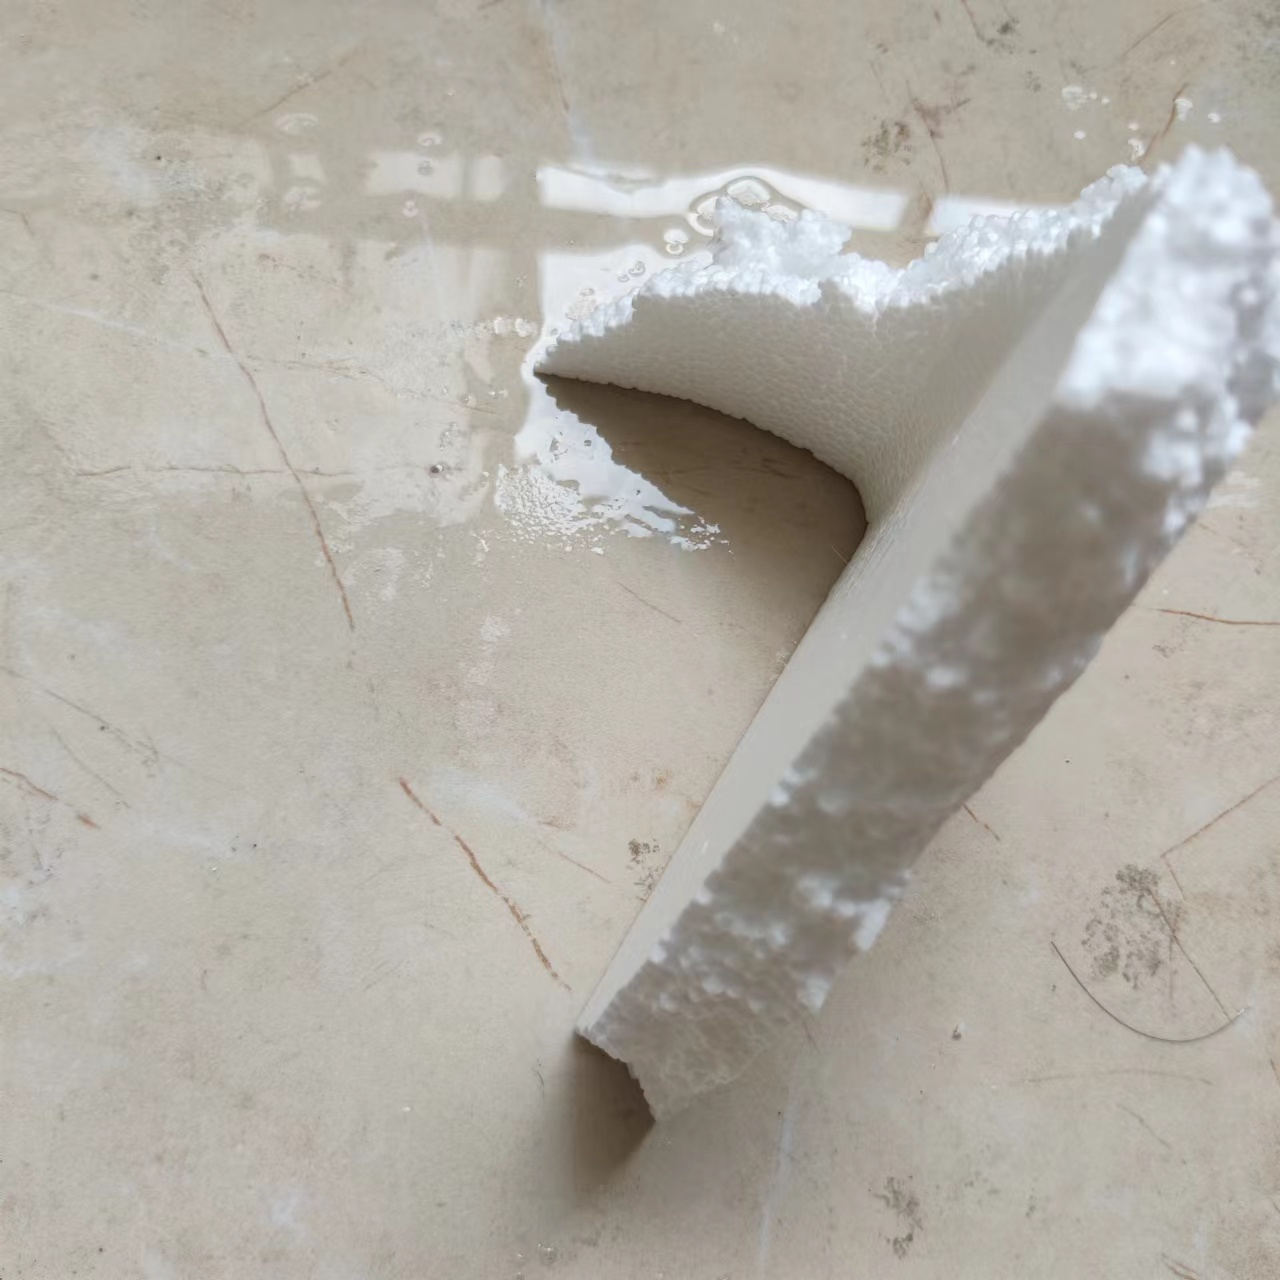5/可回收垃圾/泡沫: (535, 145, 1280, 1121)
